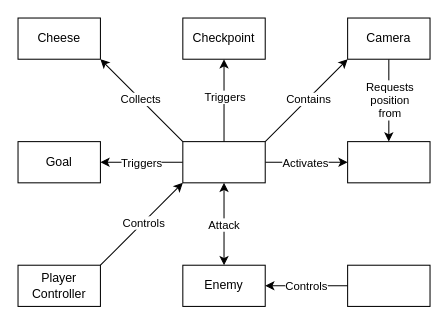
The diagram is 448 pixels wide and 324 high, and some of its shapes have lost their labels. The centre of each missing label's shape, as x and y in pixels:
AI Controller: (x=388, y=285)
Camera Area: (x=388, y=162)
Player: (x=223, y=162)
